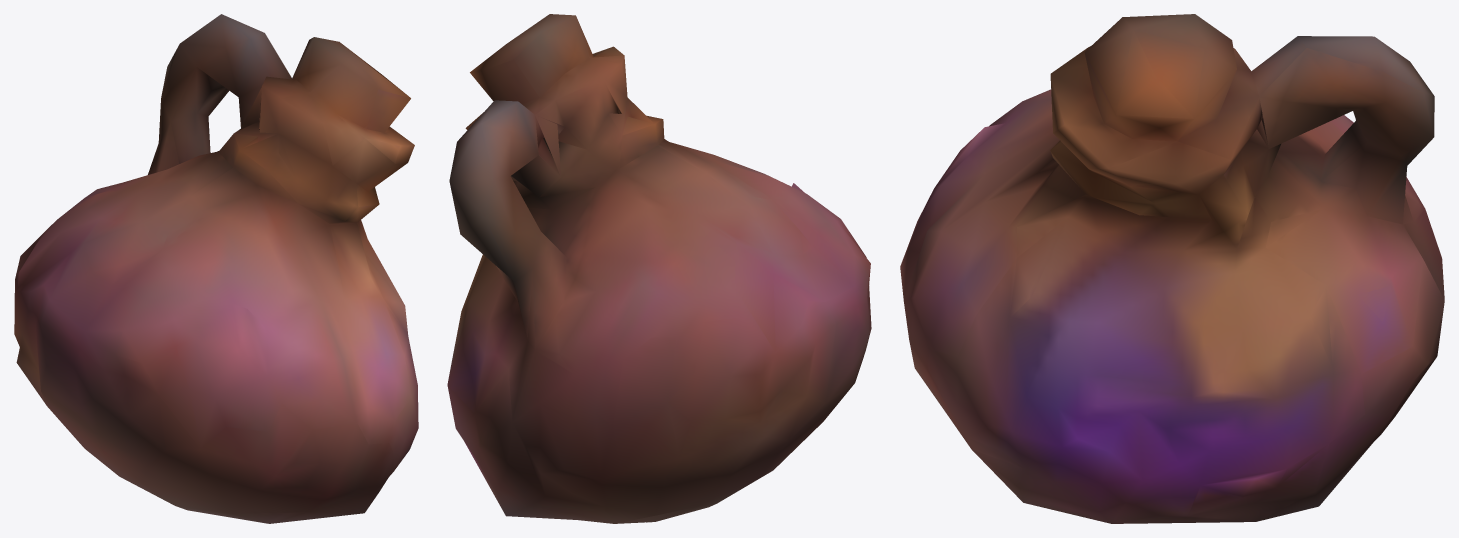
Rendered from drink_spore_mead.glb.
3 views of the same model, side by side, from view 1: azimuth 30°, elevation 25°; view 2: azimuth 150°, elevation 25°; view 3: azimuth 270°, elevation 25° (orthographic). The views are drawn at different scales.
Visible parts, largest first — view 1: model; view 2: model; view 3: model.
Boxes of the visible parts, x1,y1,x2,y2 form: model: [14, 14, 418, 523]; model: [447, 14, 871, 523]; model: [900, 14, 1444, 523].
Size of the model in its own units: 0.3355 by 0.3988 by 0.3791.
1 material, 1 textured.
